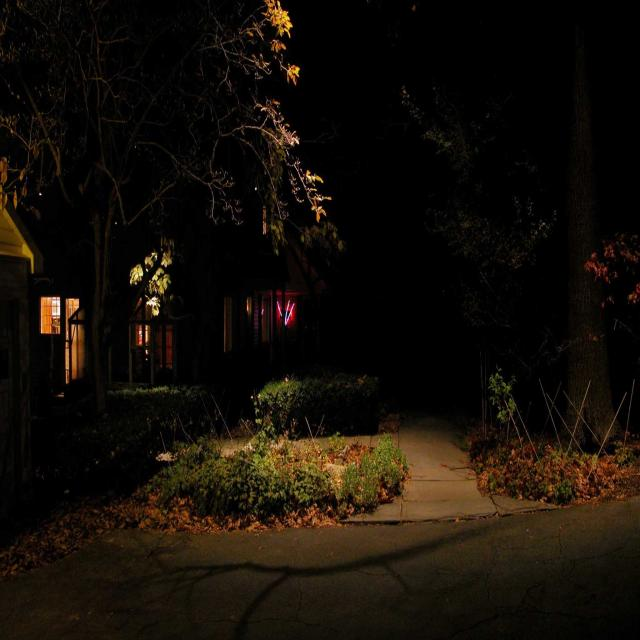lighting: (271, 290, 299, 330), (142, 289, 167, 329)
